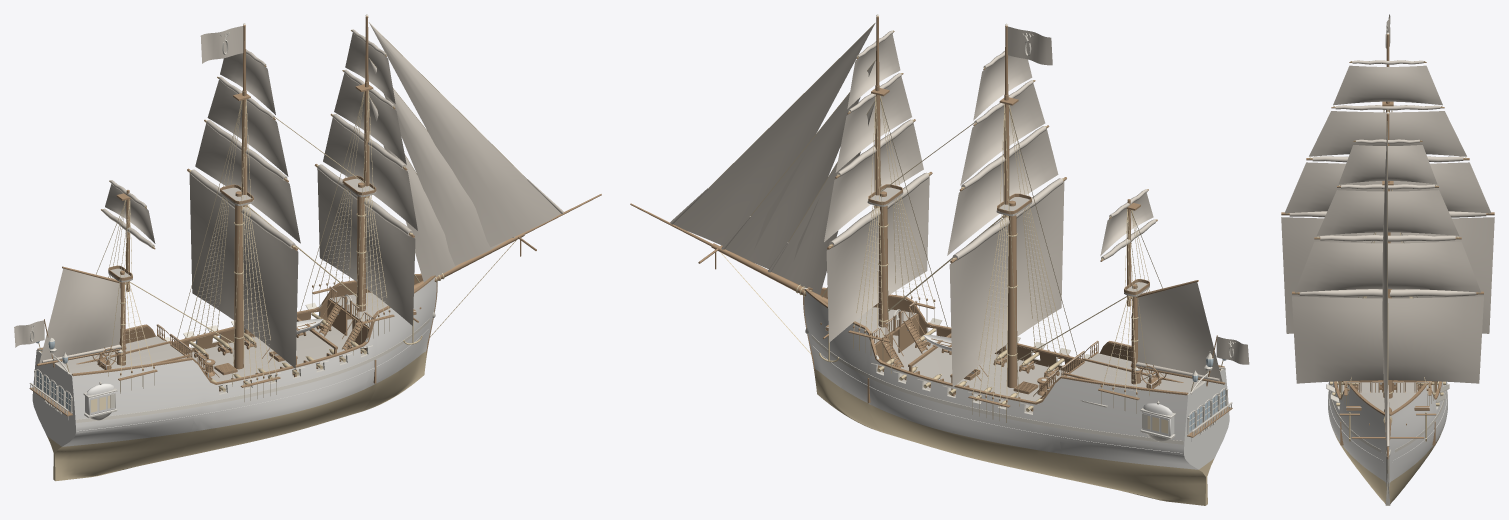
Rendered from Second_Bride.dae.
The picture shows the model from 3 angles, left to right: view 1: azimuth 30°, elevation 25°; view 2: azimuth 150°, elevation 25°; view 3: azimuth 270°, elevation 25°; orthographic projection. The views are drawn at different scales.
Parts seen in each view (by area): view 1: Bride_Sails_Main, Bride_Sails_Head, Bride_Sails_Fore, Bride_Hull_Stern, Bride_Hull_Aft, Bride_Sails_Mizzen, Bride_Hull_Fore, Bride_Hull_Bow, Bride_Deck_Quarter, Bride_Shrouds_Main_S, Bride_Stern, Bride_Deck_Main_Fore (+20 smaller); view 2: Bride_Sails_Main, Bride_Sails_Head, Bride_Sails_Fore, Bride_Hull_Stern, Bride_Hull_Aft, Bride_Sails_Mizzen, Bride_Hull_Fore, Bride_Hull_Bow, Bride_Deck_Quarter, Bride_Stern, Bride_Shrouds_Main_P, Bride_Deck_Main_Fore (+20 smaller); view 3: Bride_Sails_Fore, Bride_Sails_Main, Bride_Hull_Bow, Bride_Furled_Fore, Bride_Furled_Main, Bride_Hull_Fore, Bride_Sails_Head, Bride_Deck_Fore, Bride_Bowsprit, Bride_Deck_Main_Fore, Bride_Stays, Bride_Topmast_Main (+1 smaller).
Boxes of the visible parts, x1,y1,x2,y2 form: Bride_Sails_Main: [189, 53, 300, 368]; Bride_Sails_Head: [369, 23, 560, 282]; Bride_Sails_Fore: [317, 33, 417, 325]; Bride_Hull_Stern: [32, 325, 194, 481]; Bride_Hull_Aft: [143, 324, 295, 458]; Bride_Sails_Mizzen: [39, 184, 155, 363]; Bride_Hull_Fore: [244, 285, 378, 435]; Bride_Hull_Bow: [335, 273, 437, 411]; Bride_Deck_Quarter: [57, 324, 205, 373]; Bride_Shrouds_Main_S: [232, 99, 280, 401]; Bride_Stern: [29, 348, 117, 420]; Bride_Deck_Main_Fore: [233, 319, 366, 377]; Bride_Sails_Main: [947, 55, 1064, 387]; Bride_Sails_Head: [673, 24, 875, 294]; Bride_Sails_Fore: [824, 34, 929, 342]; Bride_Hull_Stern: [1059, 341, 1229, 505]; Bride_Hull_Aft: [952, 341, 1112, 481]; Bride_Sails_Mizzen: [1100, 193, 1222, 381]; Bride_Hull_Fore: [865, 299, 1006, 457]; Bride_Hull_Bow: [803, 287, 911, 432]; Bride_Deck_Quarter: [1047, 340, 1203, 392]; Bride_Stern: [1140, 365, 1232, 441]; Bride_Shrouds_Main_P: [968, 104, 1019, 422]; Bride_Deck_Main_Fore: [879, 335, 1017, 396]; Bride_Sails_Fore: [1292, 145, 1483, 383]; Bride_Sails_Main: [1281, 65, 1494, 333]; Bride_Hull_Bow: [1342, 383, 1433, 505]; Bride_Furled_Fore: [1299, 139, 1476, 297]; Bride_Furled_Main: [1289, 60, 1486, 217]; Bride_Hull_Fore: [1328, 381, 1447, 463]; Bride_Sails_Head: [1382, 121, 1387, 439]; Bride_Deck_Fore: [1346, 381, 1429, 425]; Bride_Bowsprit: [1339, 406, 1436, 459]; Bride_Deck_Main_Fore: [1337, 381, 1438, 392]; Bride_Stays: [1387, 109, 1388, 473]; Bride_Topmast_Main: [1281, 32, 1494, 215].
Bounding box in the file's own units: 58.49 × 18.8 × 39.66.
